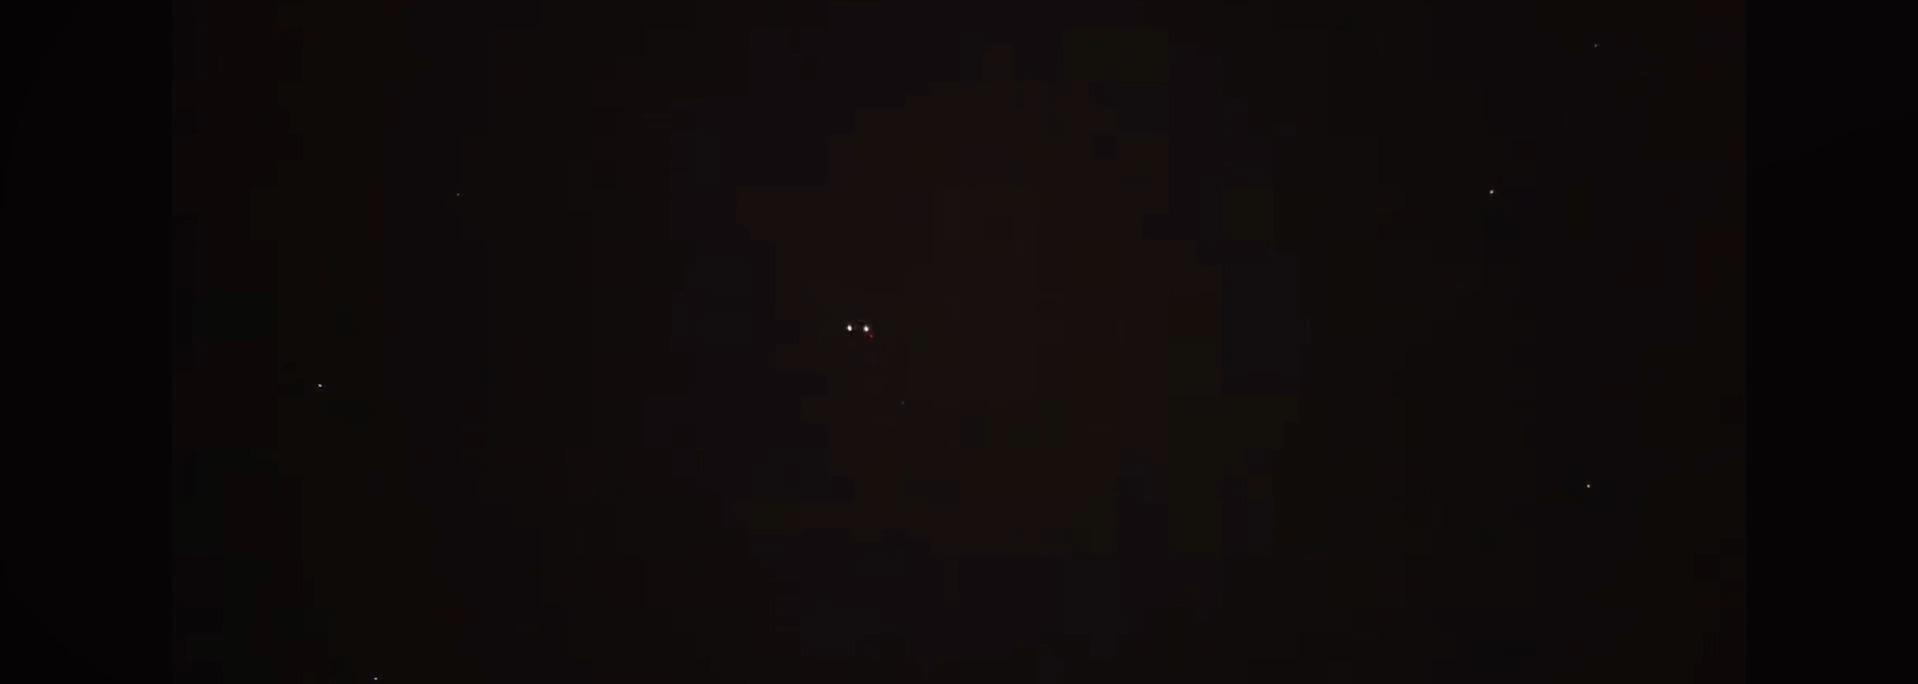Plane: (817, 313, 910, 349)
